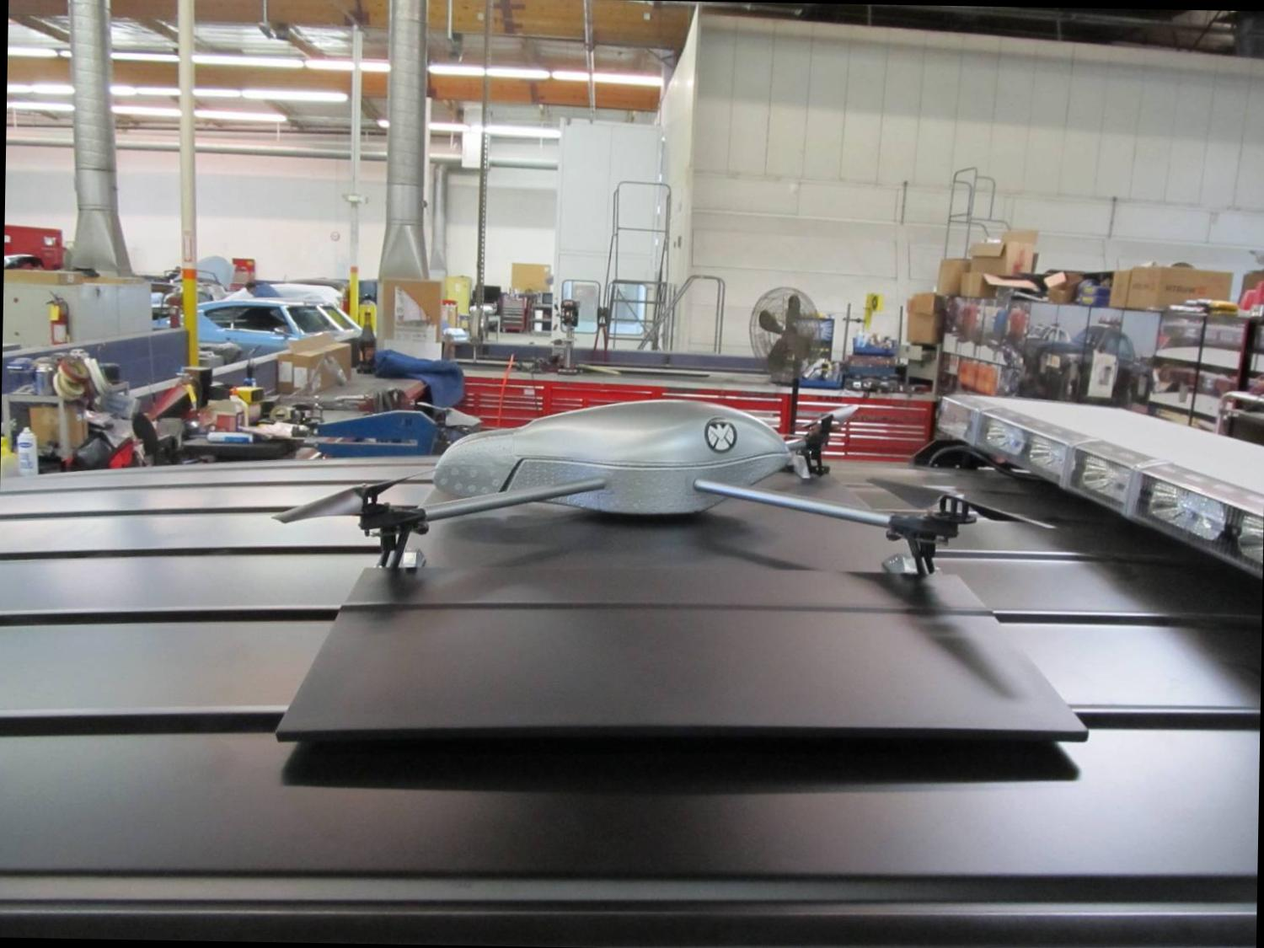drone: (262, 355, 1002, 615)
